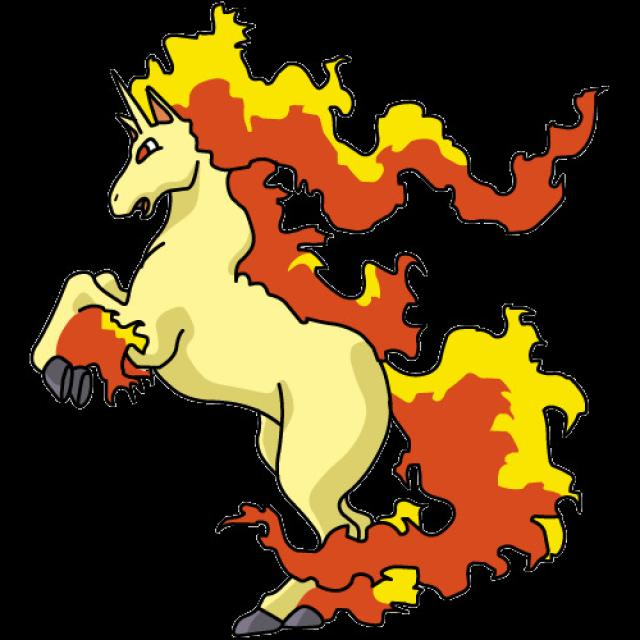Rapidash: (80, 62, 414, 635)
